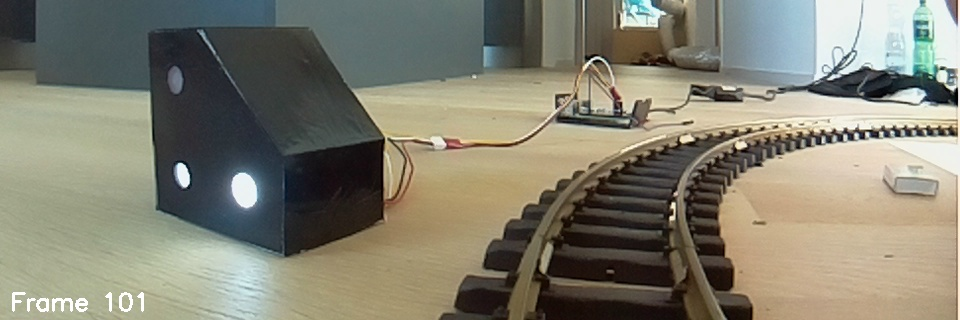Halt: (149, 25, 388, 257)
